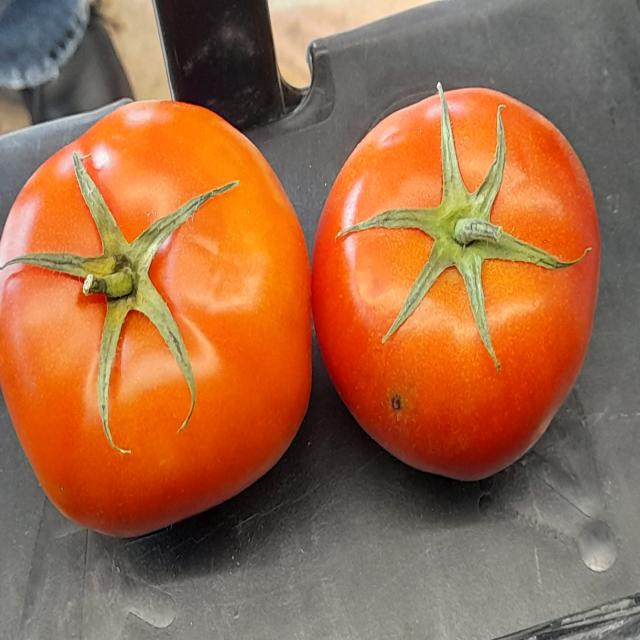tomato: (0, 91, 315, 550), (304, 67, 607, 497)
